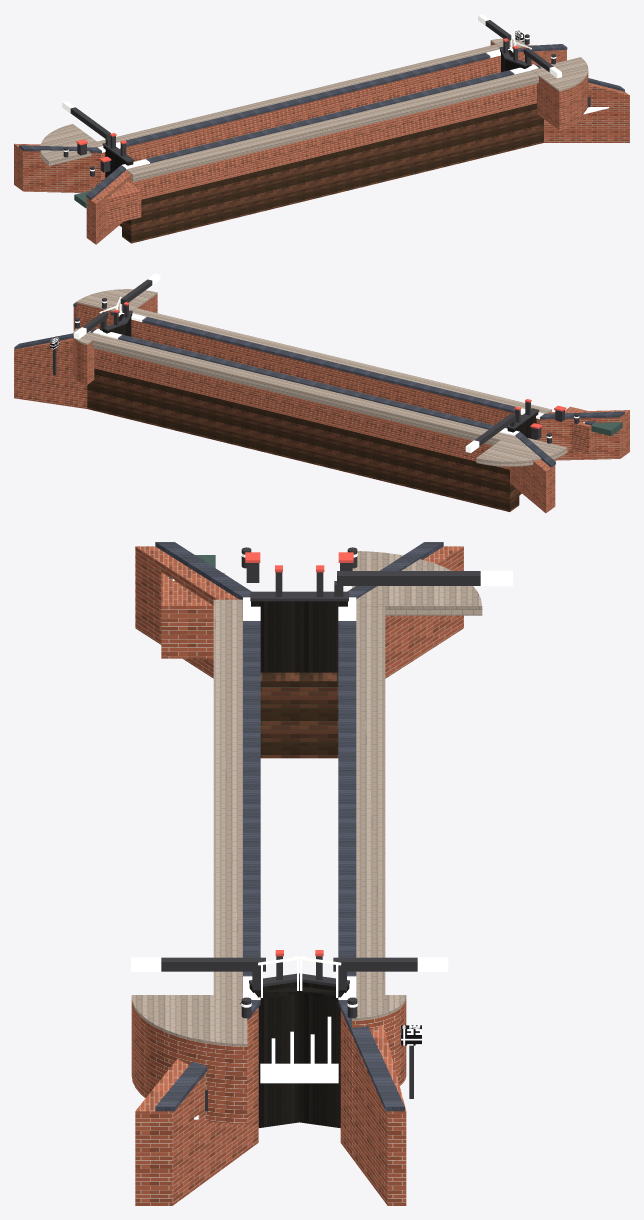
Rendered from lock-35.glb.
3 views of the same model, one above another, from view 1: azimuth 30°, elevation 25°; view 2: azimuth 150°, elevation 25°; view 3: azimuth 270°, elevation 25° (orthographic). The views are drawn at different scales.
Parts seen in each view (by area): view 1: Chamber, ChamberWet, Edge, Coping.001, TopGateCap, Coping, TopGate; view 2: Chamber, ChamberWet, Edge, Coping.001, TopGateCap, Coping, TopGate, WeirWater; view 3: Chamber, Edge, Coping.001, TopGate, TopGateCap, ChamberWet, Coping, Leak.
Boxes of the visible parts, box(x1,y1,x2,y2) form: Chamber: box(14, 41, 629, 244); ChamberWet: box(101, 103, 543, 243); Edge: box(40, 38, 588, 181); Coping.001: box(19, 44, 624, 199); TopGateCap: box(63, 20, 590, 176); Coping: box(62, 14, 561, 171); TopGate: box(103, 50, 531, 177); Chamber: box(14, 294, 629, 513); ChamberWet: box(87, 368, 521, 511); Edge: box(73, 289, 567, 466); Coping.001: box(14, 302, 624, 467); TopGateCap: box(53, 279, 579, 446); Coping: box(74, 273, 579, 452); TopGate: box(100, 314, 538, 439); WeirWater: box(591, 422, 622, 435); Chamber: box(131, 546, 463, 1205); Edge: box(131, 551, 482, 1046); Coping.001: box(155, 542, 443, 1111); TopGate: box(249, 601, 349, 1128); TopGateCap: box(161, 547, 480, 1111); ChamberWet: box(260, 672, 338, 758); Coping: box(131, 553, 512, 1007); Leak: box(172, 579, 338, 1119).
Size of the model in its own units: 33.12 by 5.3 by 10.24.
11 materials, 8 textured.
